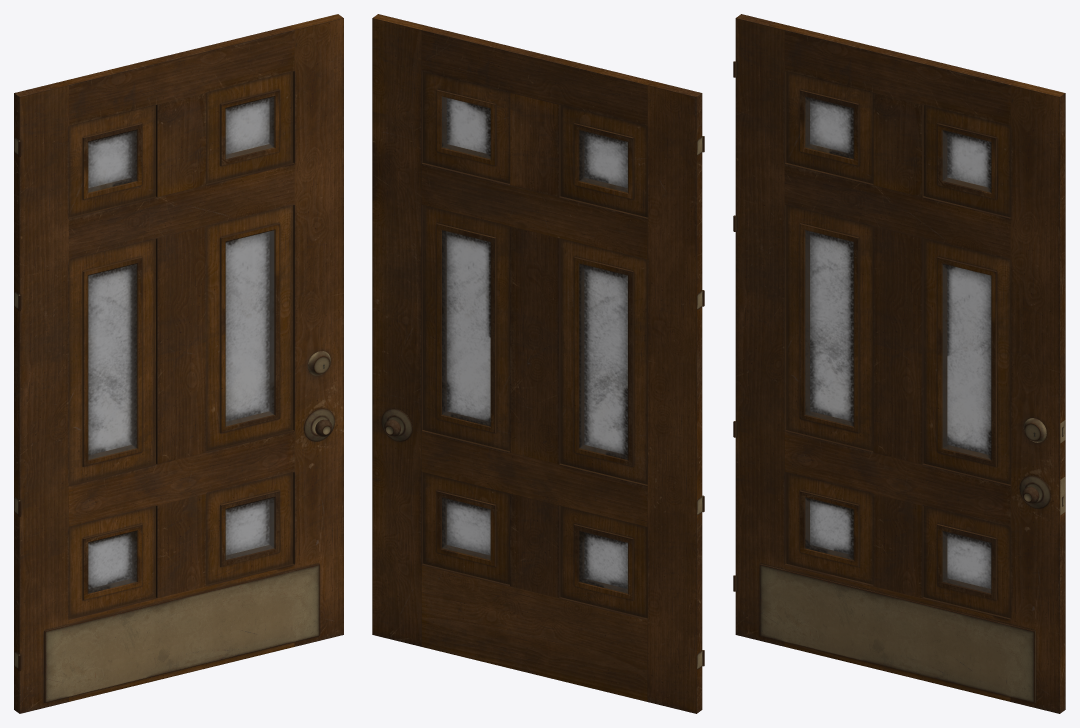
The model's file is wood_door.glb.
3 renders of one model, left to right at view 1: azimuth 30°, elevation 25°; view 2: azimuth 150°, elevation 25°; view 3: azimuth 330°, elevation 25°, orthographic.
Parts seen in each view (by area): view 1: base, glass, dop; view 2: base, glass, dop; view 3: base, glass, dop.
Boxes of the visible parts, x1,y1,x2,y2 form: base: [14, 14, 343, 713]; glass: [88, 96, 274, 593]; dop: [14, 137, 334, 702]; base: [372, 14, 702, 713]; glass: [442, 96, 627, 593]; dop: [381, 136, 704, 668]; base: [735, 14, 1065, 713]; glass: [805, 96, 991, 593]; dop: [733, 61, 1065, 702].
Size of the model in its own units: 6.65 by 12 by 0.7263.
Materials: 3 (3 with a texture image).
